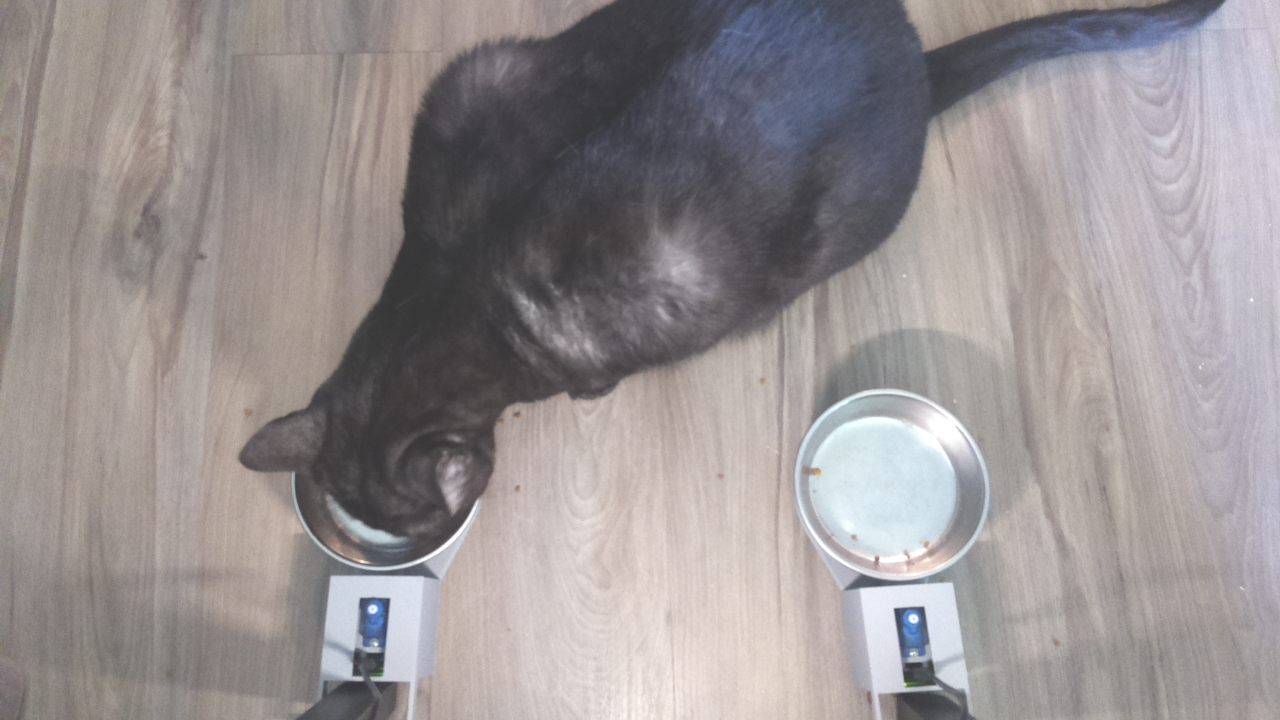open_bowl: (790, 384, 993, 592)
saki_eating: (240, 321, 515, 582)
